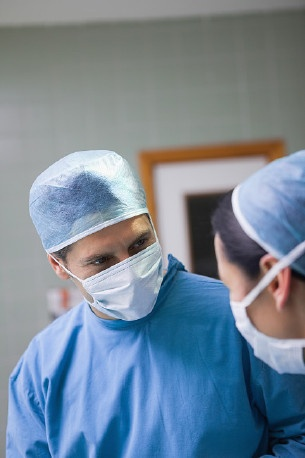Mask: (68, 227, 165, 324)
